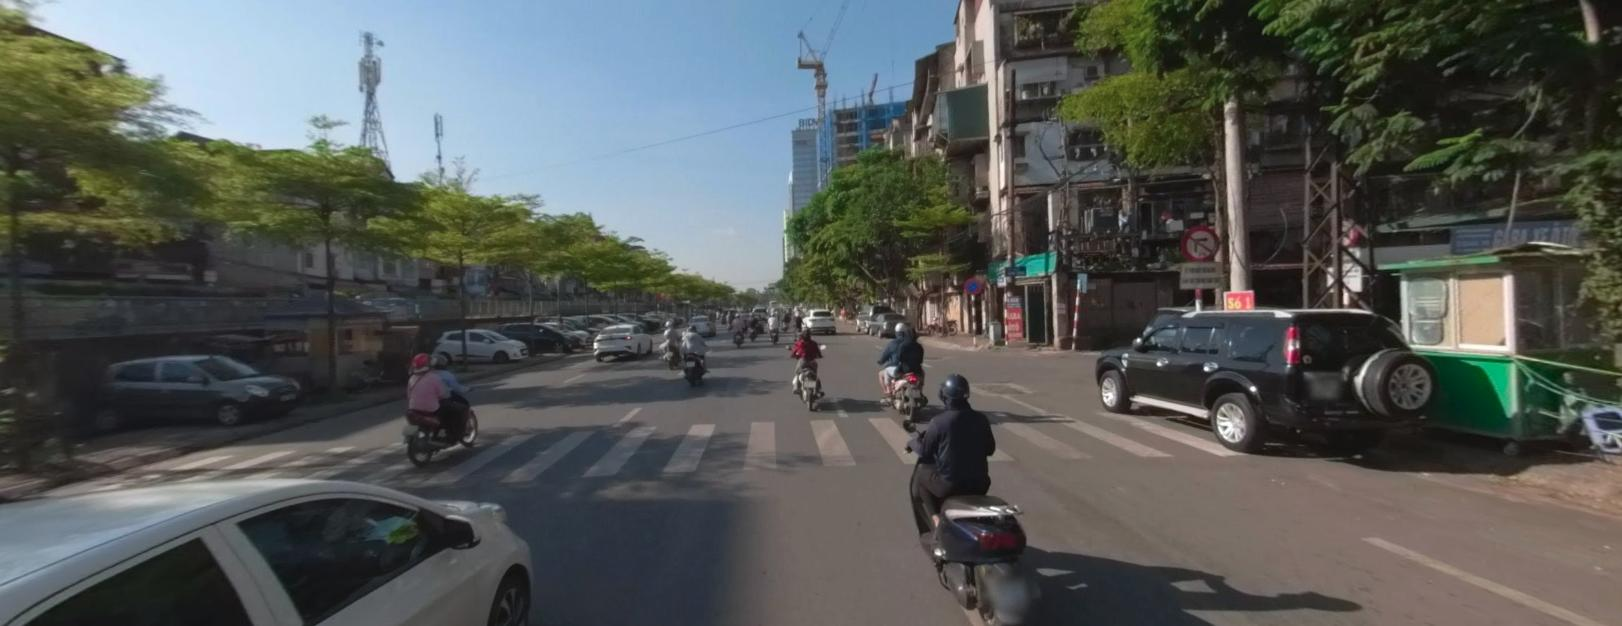Cam dung va do: (964, 276, 979, 292)
Cam re: (1181, 225, 1216, 259)
